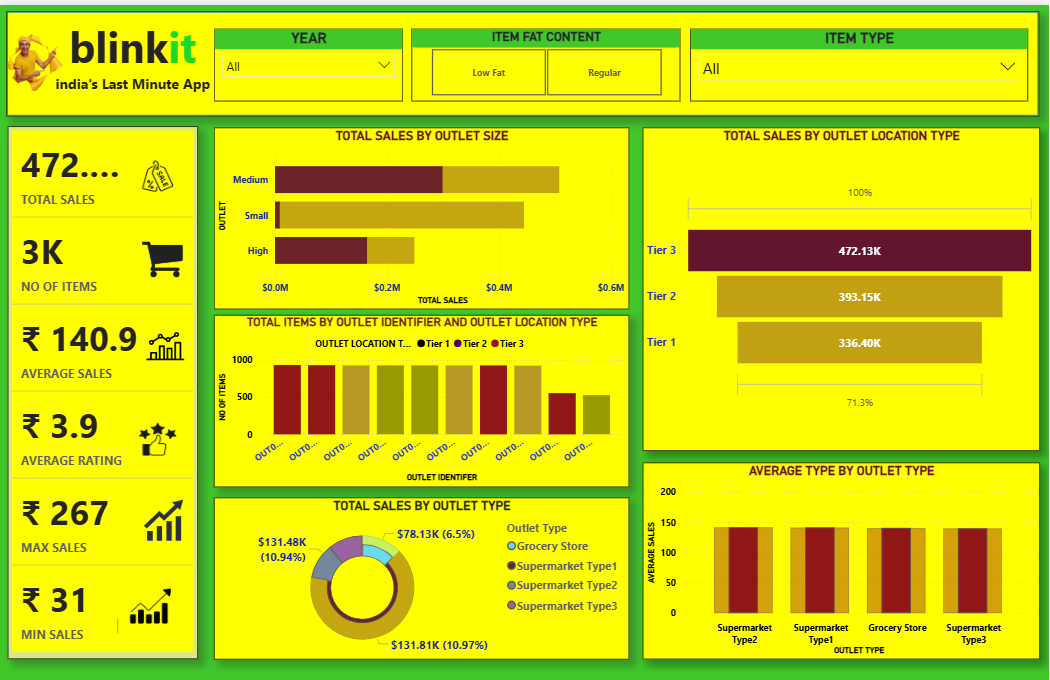

What the dashboard file says about the page in this screenshot:
{"tool":"powerbi","page":{"name":"Page 1","canvas":[1400,900],"ordinal":0},"visuals":[{"type":"shape","box":[10.6,7.5,1376.9,140.2],"z":0},{"type":"textbox","box":[52.8,12.1,250.3,128.2],"z":1000},{"type":"cardVisual","fields":{"Data":["BlinkIT-Grocery-Data.Total Sales","BlinkIT-Grocery-Data.No Of Items","BlinkIT-Grocery-Data.AVERAGE SALES","BlinkIT-Grocery-Data.AVERAGE RATING","BlinkIT-Grocery-Data.max Sales","BlinkIT-Grocery-Data.Min Sales"]},"box":[11.7,161.7,253.3,710],"z":2000},{"type":"slicer","title":"ITEM TYPE","fields":{"Values":["BlinkIT-Grocery-Data.Item Type"]},"box":[921.7,31.7,450,96.7],"z":5000},{"type":"image","box":[0,0,141.8,140.2],"z":6000},{"type":"slicer","title":"YEAR","fields":{"Values":["BlinkIT-Grocery-Data.Outlet Establishment Year"]},"box":[286.7,31.7,251.7,96.7],"z":7000},{"type":"slicer","title":"ITEM FAT CONTENT","fields":{"Values":["BlinkIT-Grocery-Data.Item Fat Content"]},"box":[550,31.7,358.3,96.7],"z":8000},{"type":"barChart","title":"TOTAL SALES BY OUTLET SIZE","fields":{"Category":["BlinkIT-Grocery-Data.Outlet Size"],"Y":["Sum(BlinkIT-Grocery-Data.Sales)"]},"box":[286.5,162.9,553.5,242.8],"z":9000},{"type":"lineStackedColumnComboChart","title":"TOTAL ITEMS BY OUTLET IDENTIFIER AND OUTLET LOCATION TYPE","fields":{"Category":["BlinkIT-Grocery-Data.Outlet Identifier"],"Y":["BlinkIT-Grocery-Data.NO OF ITEMS"],"Series":["BlinkIT-Grocery-Data.Outlet Location Type"]},"box":[286.5,413.2,553.5,229.2],"z":11000},{"type":"donutChart","title":"TOTAL SALES BY OUTLET TYPE","fields":{"Y":["Sum(BlinkIT-Grocery-Data.Sales)"],"Series":["BlinkIT-Grocery-Data.Outlet Type"]},"box":[286.5,656,553.5,215.7],"z":13000},{"type":"columnChart","title":"AVERAGE TYPE BY OUTLET TYPE","fields":{"Category":["BlinkIT-Grocery-Data.Outlet Type"],"Y":["BlinkIT-Grocery-Data.AVERAGE SALES"]},"box":[858.1,609.3,529.3,262.4],"z":14000},{"type":"funnel","title":"TOTAL SALES BY OUTLET LOCATION TYPE","fields":{"Category":["BlinkIT-Grocery-Data.Outlet Location Type"],"Y":["BlinkIT-Grocery-Data.TOTAL SALES"]},"box":[858.1,162.9,529.3,431.3],"z":15000}]}

Visuals, with their boxes in screenshot pixels (x1, y1, x2, y2), scaled from the page's 1400x900 canvas onto the 1050x680 screenshot:
shape: (8,6,1041,112)
textbox: (40,9,227,106)
cardVisual - BlinkIT-Grocery-Data.Total Sales x BlinkIT-Grocery-Data.No Of Items: (9,122,199,659)
"ITEM TYPE" slicer: (691,24,1029,97)
image: (0,0,106,106)
"YEAR" slicer: (215,24,404,97)
"ITEM FAT CONTENT" slicer: (412,24,681,97)
"TOTAL SALES BY OUTLET SIZE" barChart: (215,123,630,307)
"TOTAL ITEMS BY OUTLET IDENTIFIER AND OUTLET LOCATION TYPE" lineStackedColumnComboChart: (215,312,630,485)
"TOTAL SALES BY OUTLET TYPE" donutChart: (215,496,630,659)
"AVERAGE TYPE BY OUTLET TYPE" columnChart: (644,460,1041,659)
"TOTAL SALES BY OUTLET LOCATION TYPE" funnel: (644,123,1041,449)
